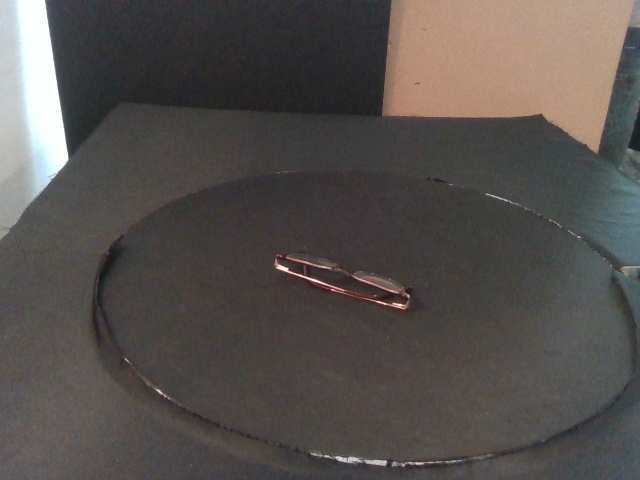glasses: (273, 251, 415, 311)
